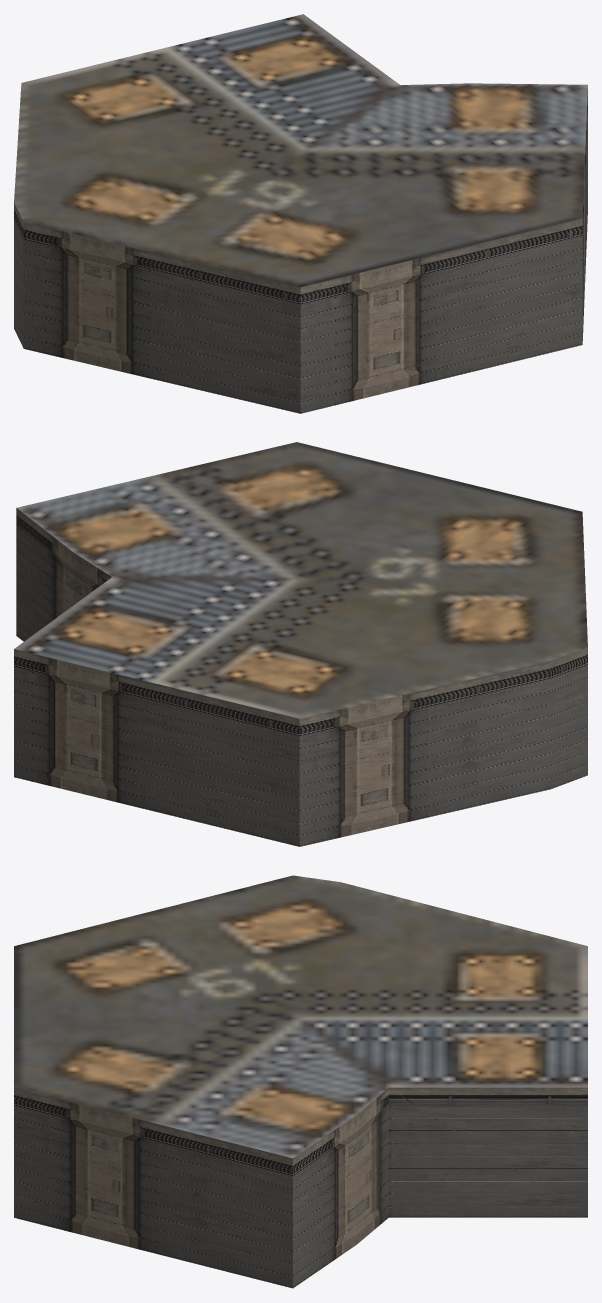
Rendered from hangar_heavy_a_61.glb.
The picture shows the model from 3 angles, top to bottom: view 1: azimuth 30°, elevation 25°; view 2: azimuth 150°, elevation 25°; view 3: azimuth 270°, elevation 25°; orthographic projection. The views are drawn at different scales.
Parts seen in each view (by area): view 1: buildings/saxarba/hangar_heavy/hangar_heavy_a_61; view 2: buildings/saxarba/hangar_heavy/hangar_heavy_a_61; view 3: buildings/saxarba/hangar_heavy/hangar_heavy_a_61.
Boxes of the visible parts, box(x1,y1,x2,y2) form: buildings/saxarba/hangar_heavy/hangar_heavy_a_61: box(14, 14, 587, 413); buildings/saxarba/hangar_heavy/hangar_heavy_a_61: box(14, 442, 587, 846); buildings/saxarba/hangar_heavy/hangar_heavy_a_61: box(14, 875, 587, 1288).
Bounding box in the file's own units: 84 × 18 × 72.
